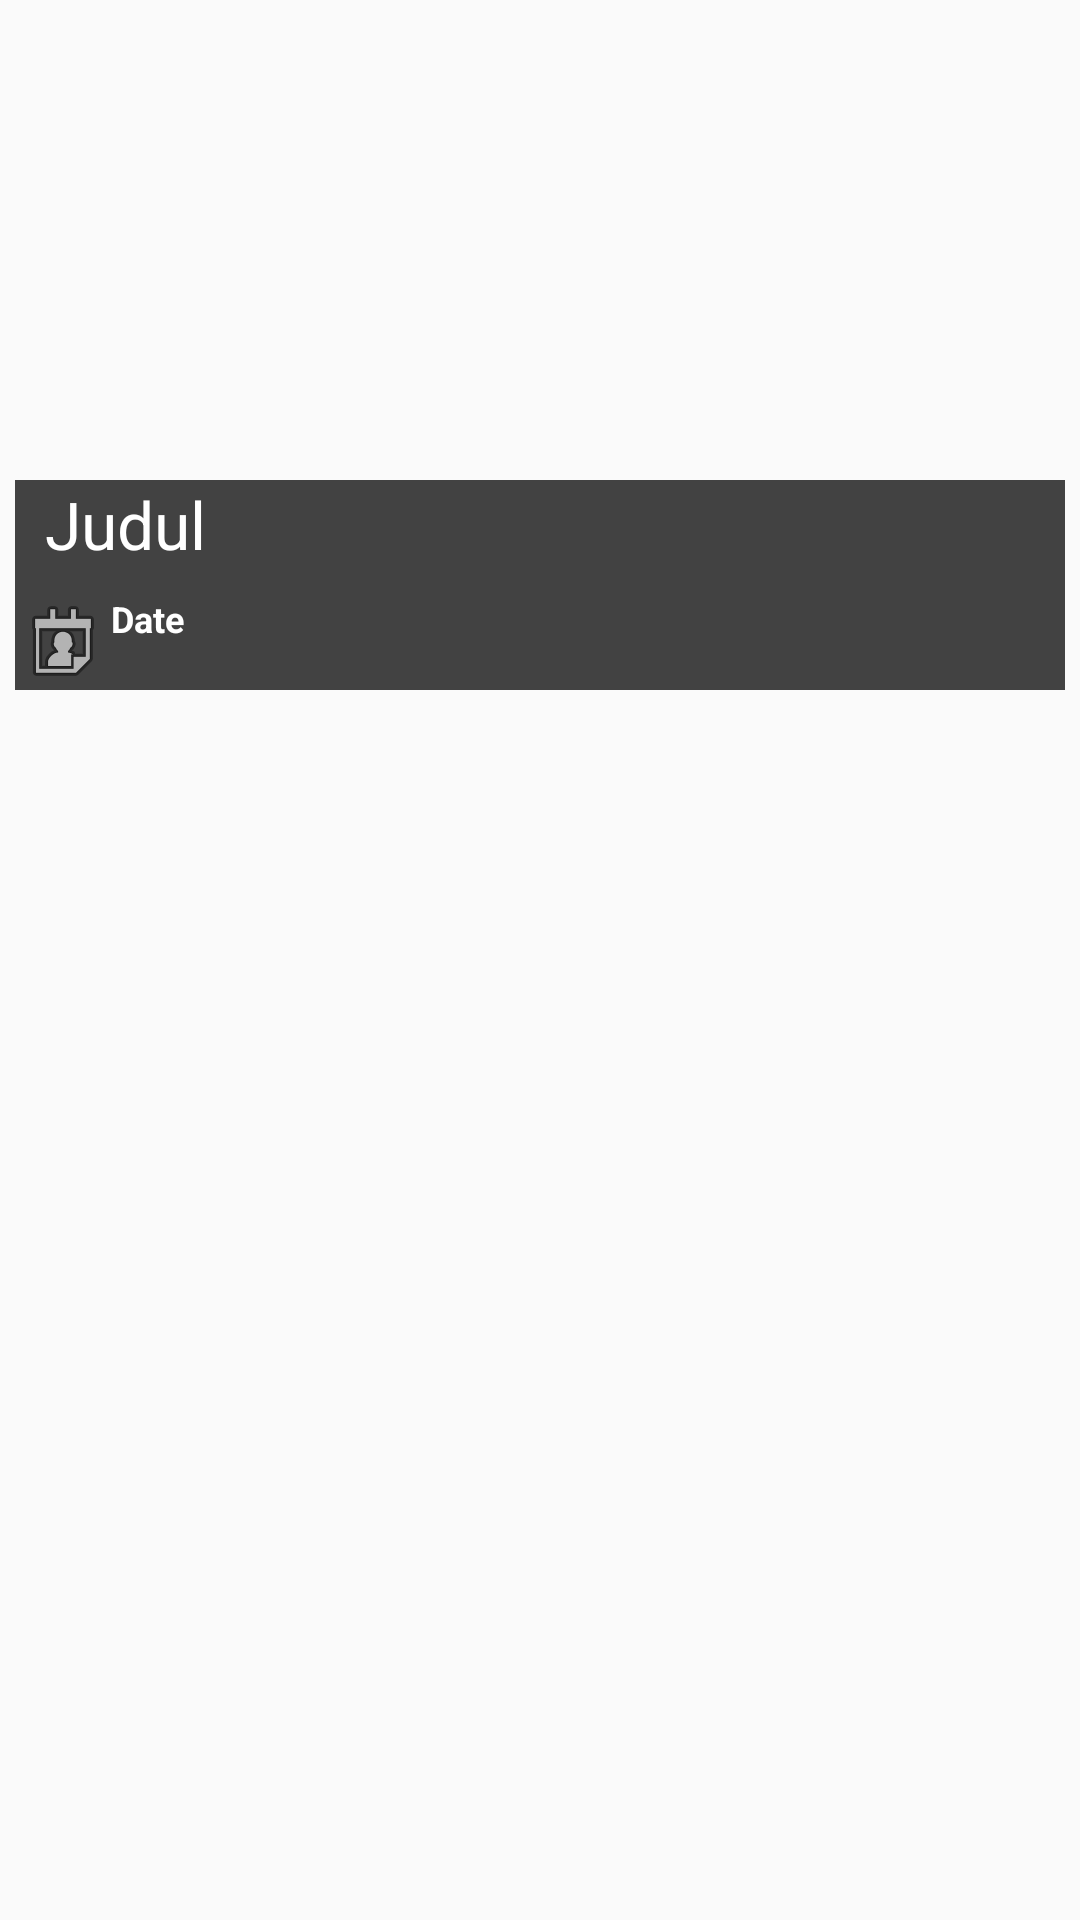

Icons on this 1080w x 1920h Android screen, each with the point to tap as (x=x, y=y):
calendar: (x=63, y=641)
